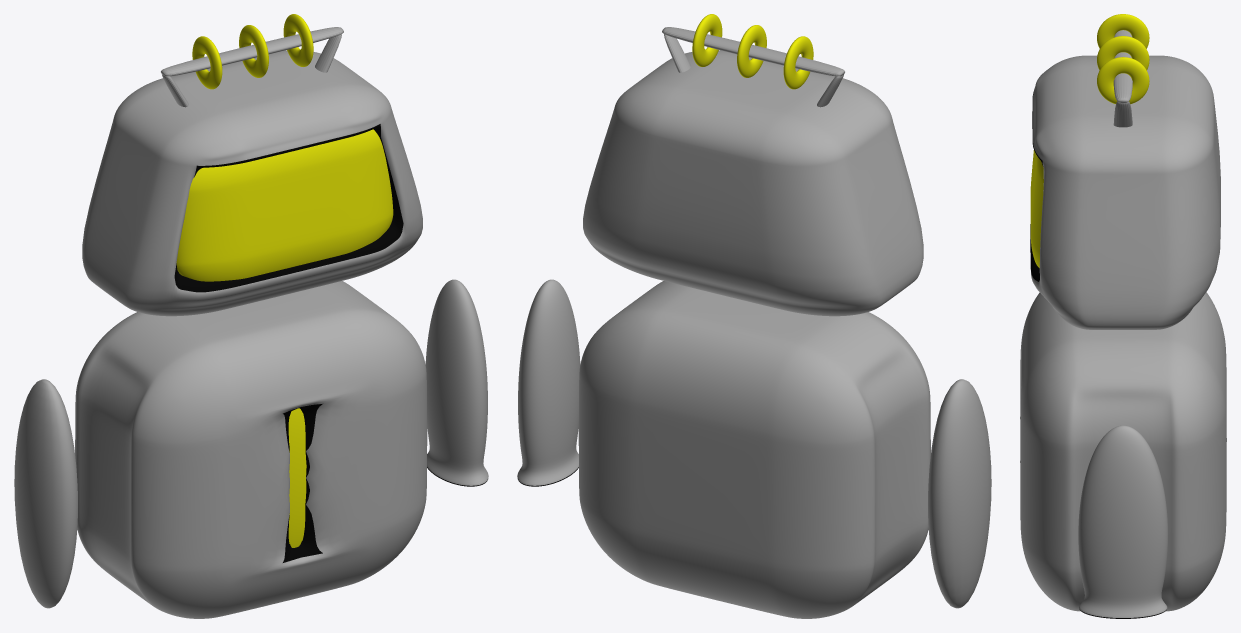
The model's file is SM_APE.fbx.
3 views of the same model, side by side, from view 1: azimuth 30°, elevation 25°; view 2: azimuth 150°, elevation 25°; view 3: azimuth 270°, elevation 25° (orthographic). The views are drawn at different scales.
Visible parts, largest first — view 1: SM_Body, SM_Head1, SM_RightArm, SM_Cannon; view 2: SM_Body, SM_Head1, SM_RightArm, SM_Cannon; view 3: SM_Head1, SM_Body, SM_Cannon.
Boxes of the visible parts, x1=… form: SM_Body: x1=75, y1=281, x2=427, y2=618; SM_Head1: x1=82, y1=14, x2=422, y2=316; SM_RightArm: x1=14, y1=379, x2=77, y2=608; SM_Cannon: x1=425, y1=279, x2=488, y2=486; SM_Body: x1=578, y1=281, x2=930, y2=618; SM_Head1: x1=583, y1=14, x2=923, y2=316; SM_RightArm: x1=928, y1=379, x2=991, y2=608; SM_Cannon: x1=517, y1=279, x2=580, y2=486; SM_Head1: x1=1030, y1=14, x2=1220, y2=329; SM_Body: x1=1020, y1=292, x2=1226, y2=611; SM_Cannon: x1=1078, y1=425, x2=1167, y2=618.
Bounding box in the file's own units: 2035 × 2365 × 827.
